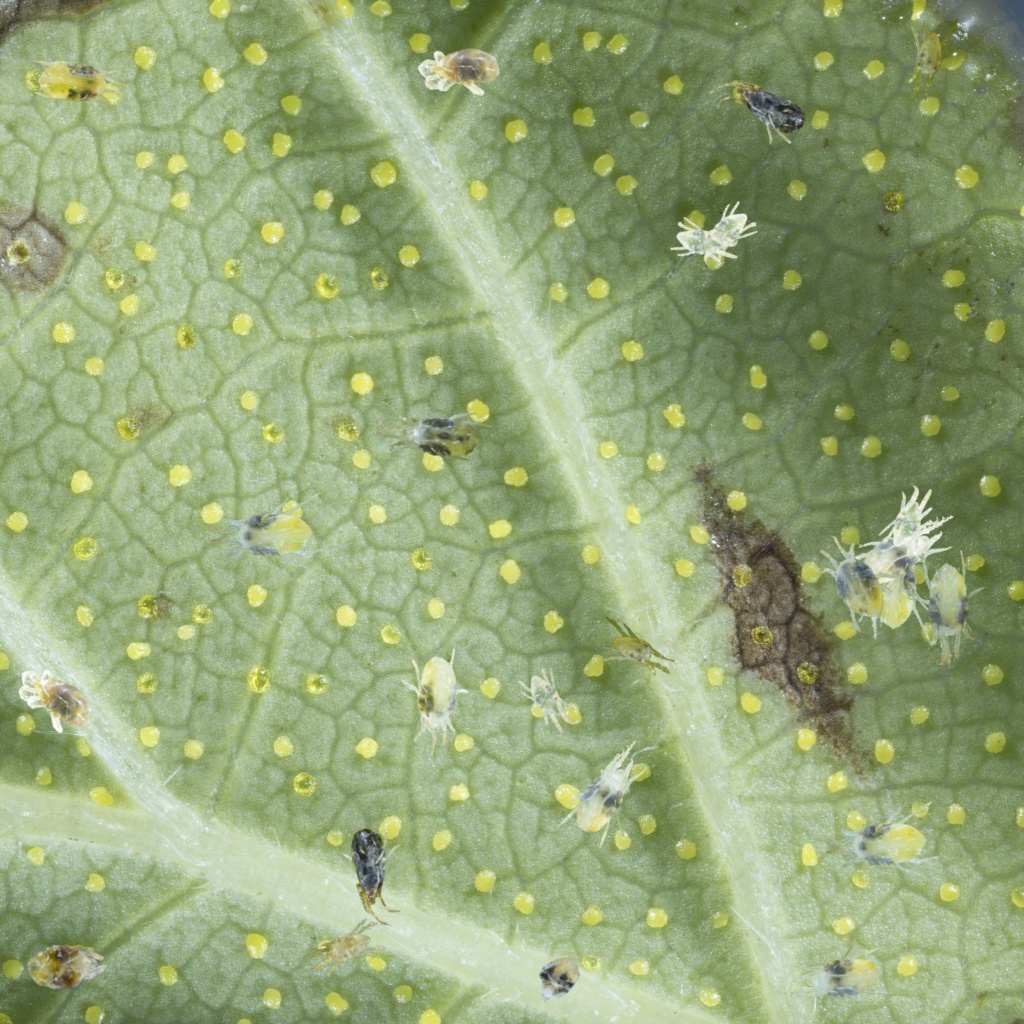Adult_female: (203, 466, 351, 606), (818, 775, 965, 915), (544, 737, 680, 869), (882, 536, 1010, 676), (831, 526, 956, 664), (374, 632, 494, 761), (833, 511, 974, 618), (774, 925, 903, 1011), (799, 533, 903, 638), (367, 408, 494, 472), (25, 58, 132, 129)
Adult_male: (303, 911, 393, 991), (682, 198, 762, 273), (591, 615, 681, 680), (876, 477, 945, 558), (515, 663, 584, 741), (905, 14, 958, 102), (668, 215, 745, 272)
Dead_mite: (338, 818, 425, 933), (700, 73, 811, 152), (414, 30, 508, 116), (21, 923, 111, 1006), (11, 664, 99, 740), (528, 951, 588, 1006)
